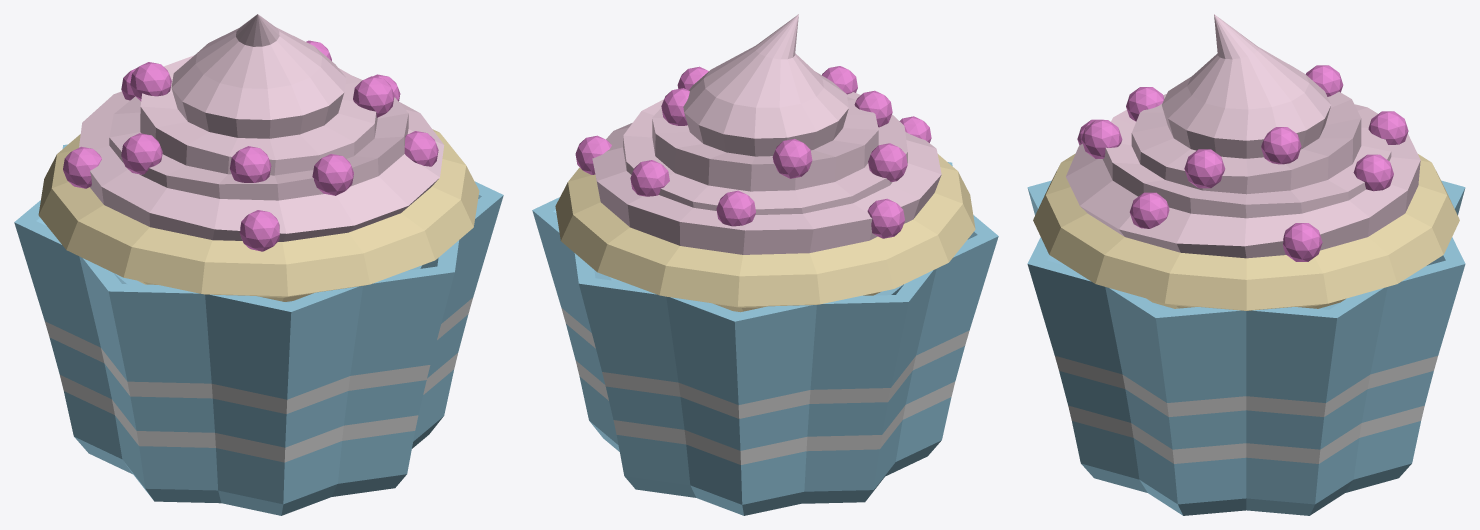
Rendered from Muffin.glb.
3 renders of one model, left to right at view 1: azimuth 30°, elevation 25°; view 2: azimuth 150°, elevation 25°; view 3: azimuth 270°, elevation 25°, orthographic. The views are drawn at different scales.
Visible parts, largest first — view 1: Circle; view 2: Circle; view 3: Circle.
Part boxes in pixels (left/top/right/bottom): Circle: left=14, top=14, right=503, bottom=515; Circle: left=532, top=14, right=998, bottom=515; Circle: left=1027, top=14, right=1465, bottom=515.
Bounding box in the file's own units: 2.54 × 2.79 × 2.54.
